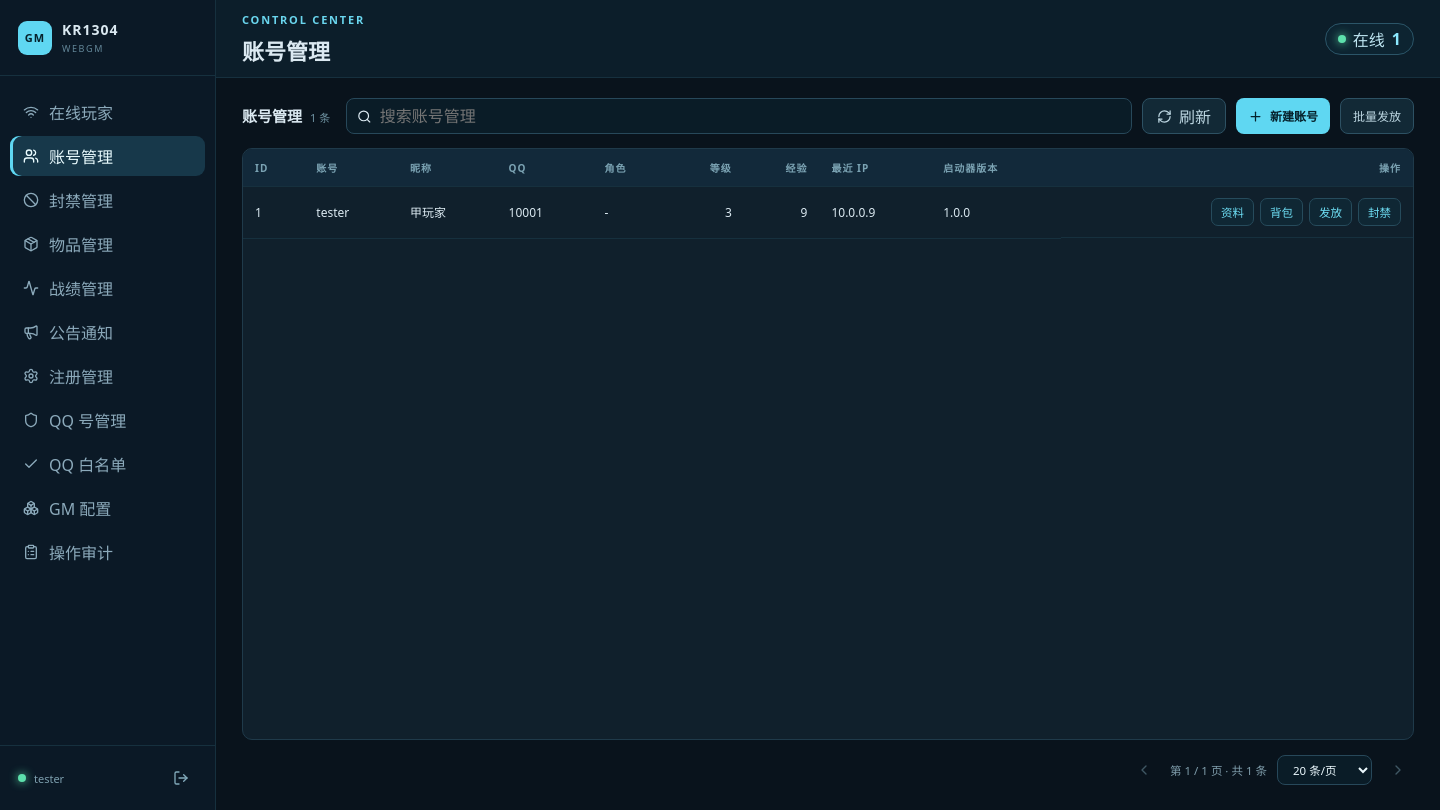
Test: WebGM 页面 › 给单个玩家发放道具：能批量粘贴解析
Click the button "批量发放" at (1377, 116), box [1340,98,1414,134]
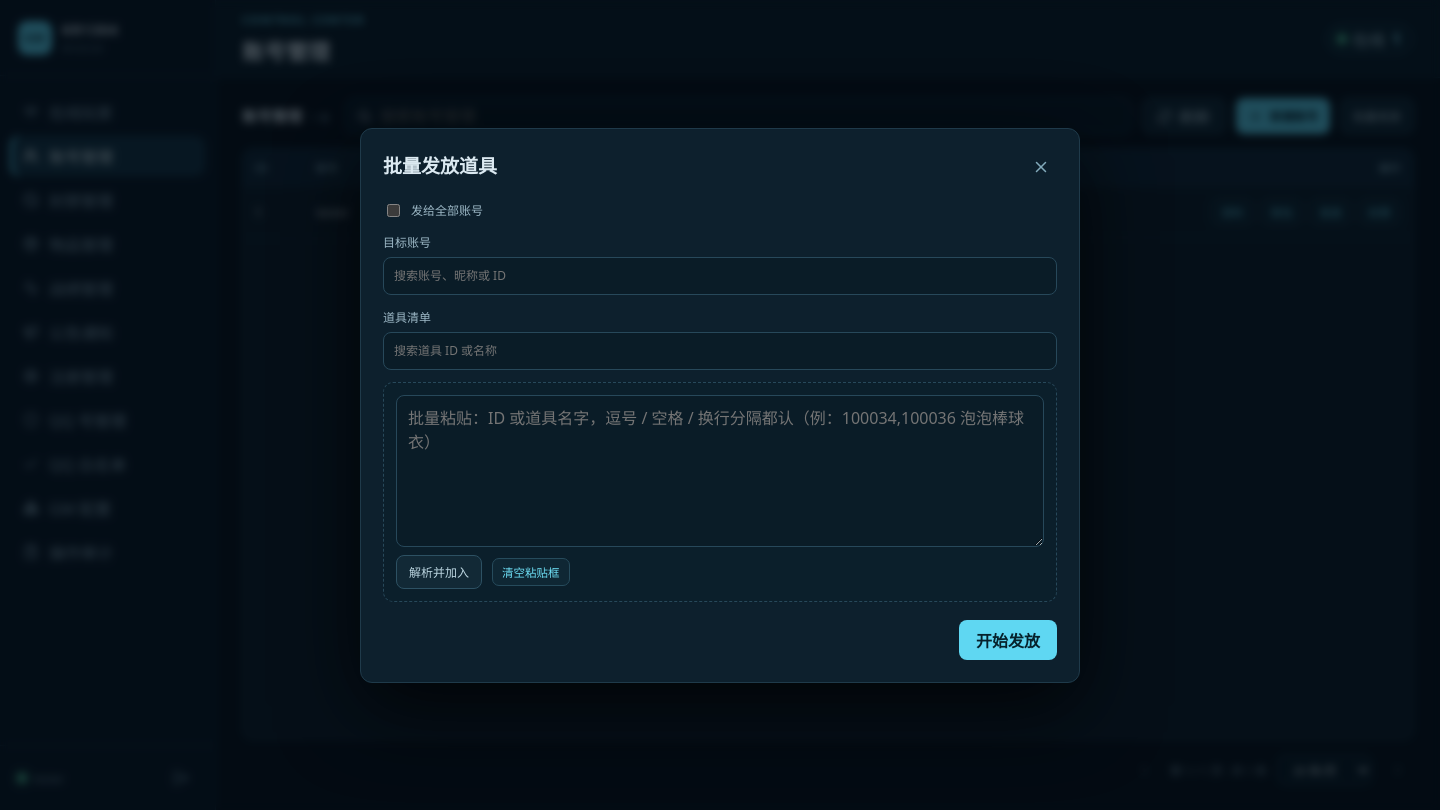
Now the text box with placeholder "批量粘贴：ID 或道具名字，逗号 / 空格 / 换行分隔都认（例：100034,100036 泡泡棒球衣）" is shown, box [396,394,1044,546]
Now the element with class "modal-panel" shows "解析并加入", box [396,554,482,588]
